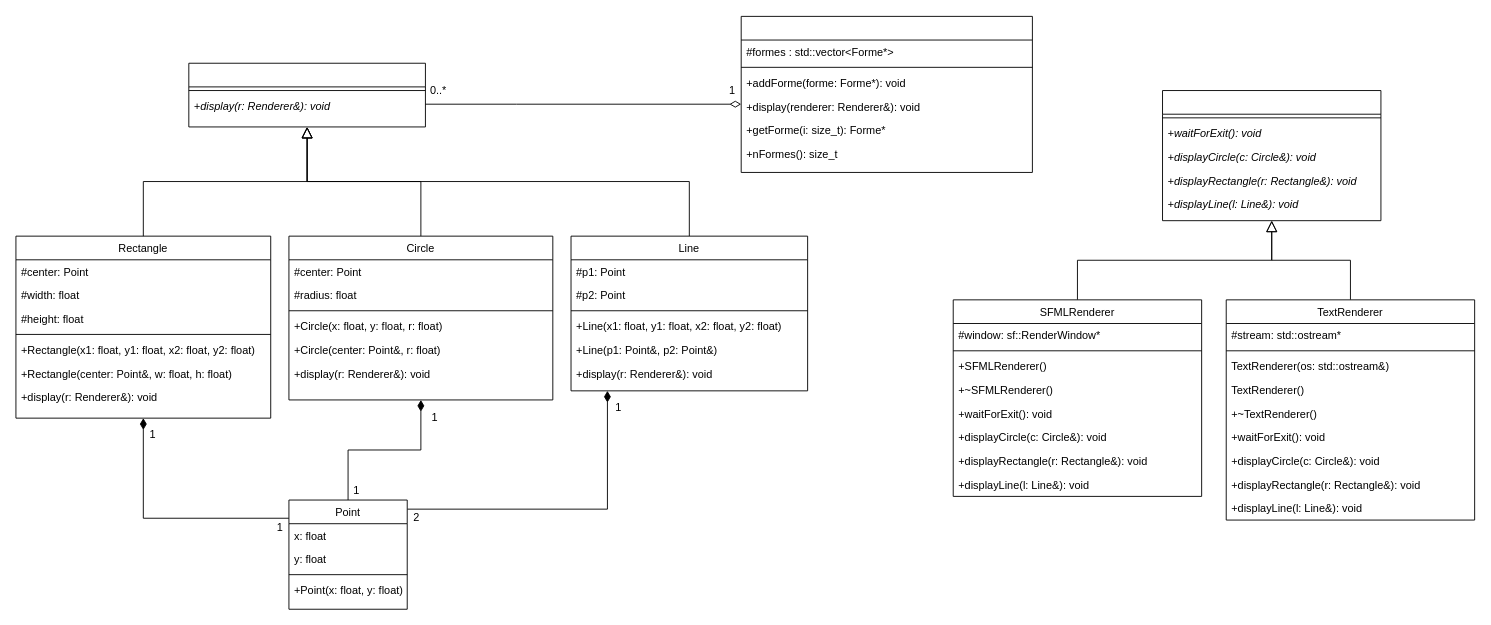
Image size: 1491x625. Some labels were removed from this diagram. Each missing label, with the box of its shape:
Dessin: (740, 15, 1032, 172)
Forme: (188, 62, 425, 127)
Renderer: (1162, 90, 1381, 221)
